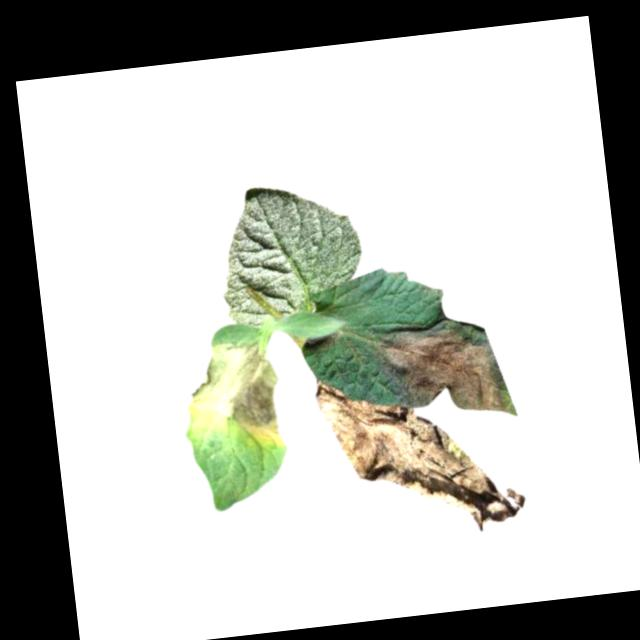Late_blight: (313, 358, 529, 549), (373, 314, 510, 428), (180, 336, 285, 447)
healthy: (209, 177, 366, 329)
